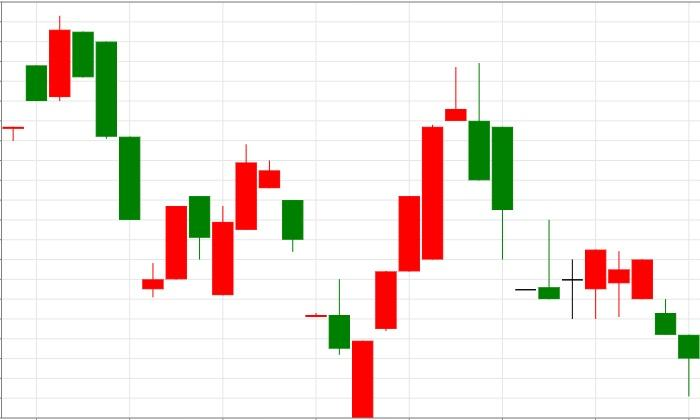three_white_soldiers_rise: (259, 159, 421, 418)
